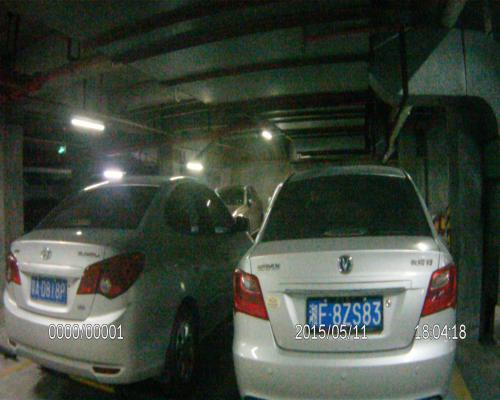Carplate: (298, 287, 384, 333), (22, 268, 71, 310)
